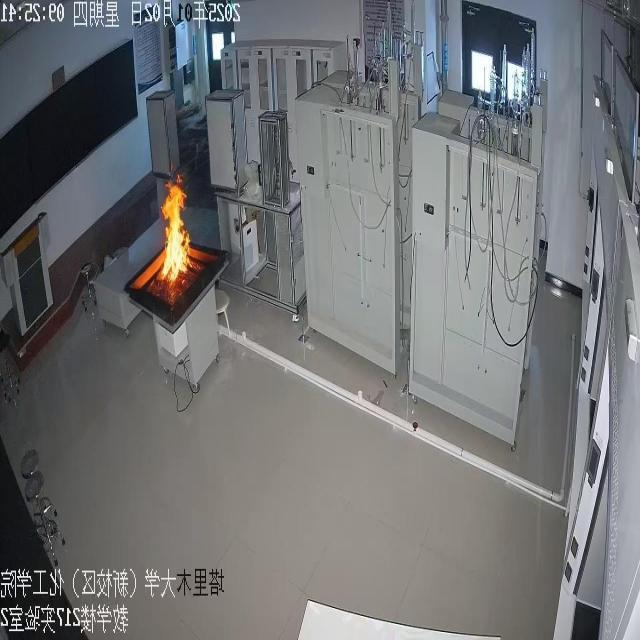smoke: (154, 162, 193, 288)
